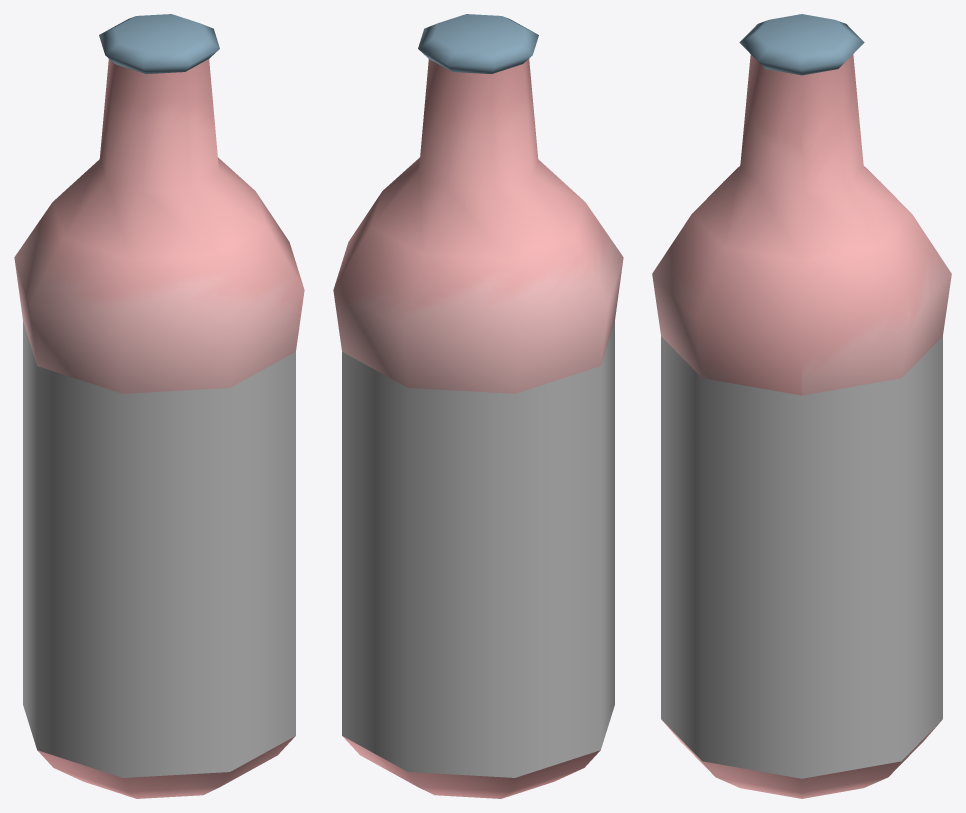
Rendered from bouteille_dodo.fbx.
3 views of the same model, side by side, from view 1: azimuth 30°, elevation 25°; view 2: azimuth 150°, elevation 25°; view 3: azimuth 270°, elevation 25° (orthographic).
Visible parts, largest first — view 1: étiquette dodo, bouteille_dodo.001, capsule dodo; view 2: étiquette dodo, bouteille_dodo.001, capsule dodo; view 3: étiquette dodo, bouteille_dodo.001, capsule dodo.
Boxes of the visible parts, left/top/right/bottom form: étiquette dodo: left=23, top=321, right=295, bottom=777; bouteille_dodo.001: left=14, top=59, right=304, bottom=798; capsule dodo: left=99, top=14, right=219, bottom=74; étiquette dodo: left=342, top=321, right=614, bottom=777; bouteille_dodo.001: left=333, top=59, right=623, bottom=798; capsule dodo: left=418, top=14, right=538, bottom=74; étiquette dodo: left=661, top=336, right=942, bottom=778; bouteille_dodo.001: left=652, top=54, right=951, bottom=798; capsule dodo: left=739, top=14, right=864, bottom=75.
Bounding box in the file's own units: 59.63 × 160 × 59.63.
